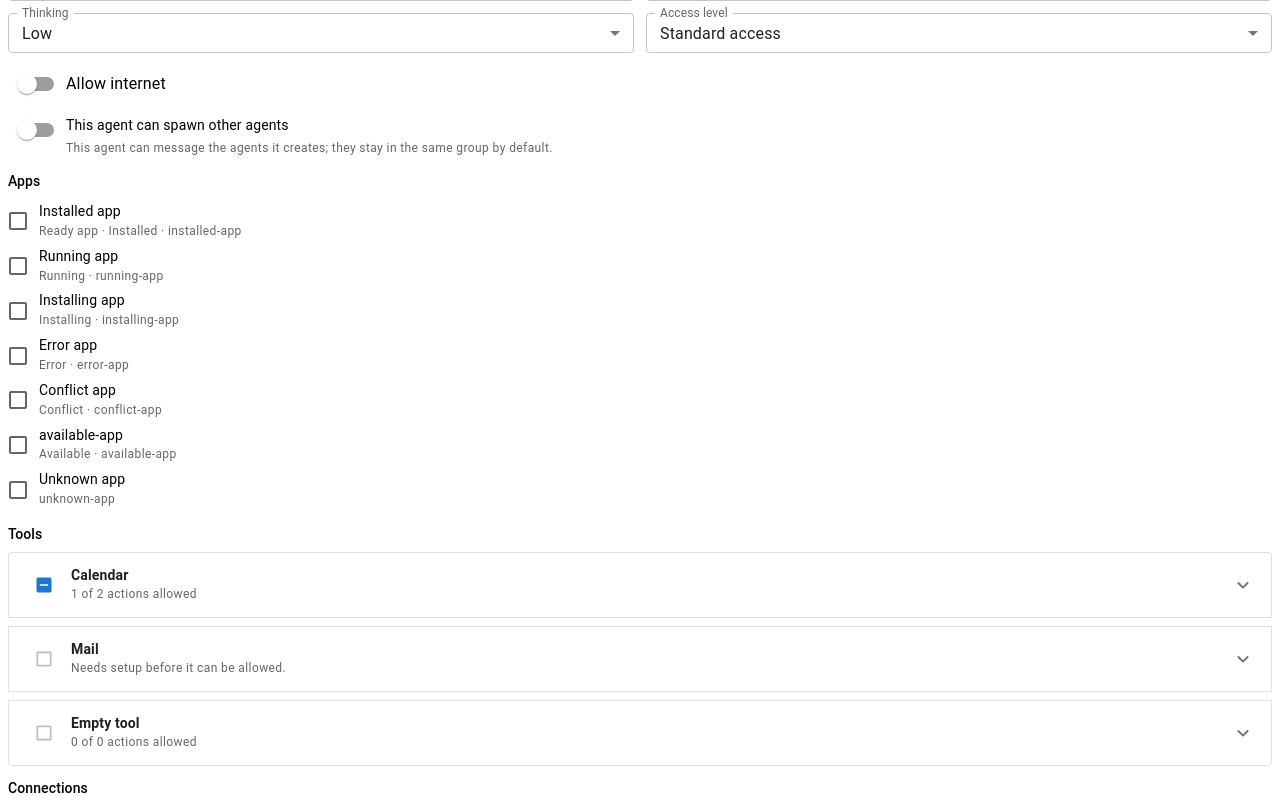
AgentAccessControls › grants all, partial, and individual tool actions including unconfigured tools
Click the checkbox named "Calendar" at (44, 585), box [34, 575, 54, 595]
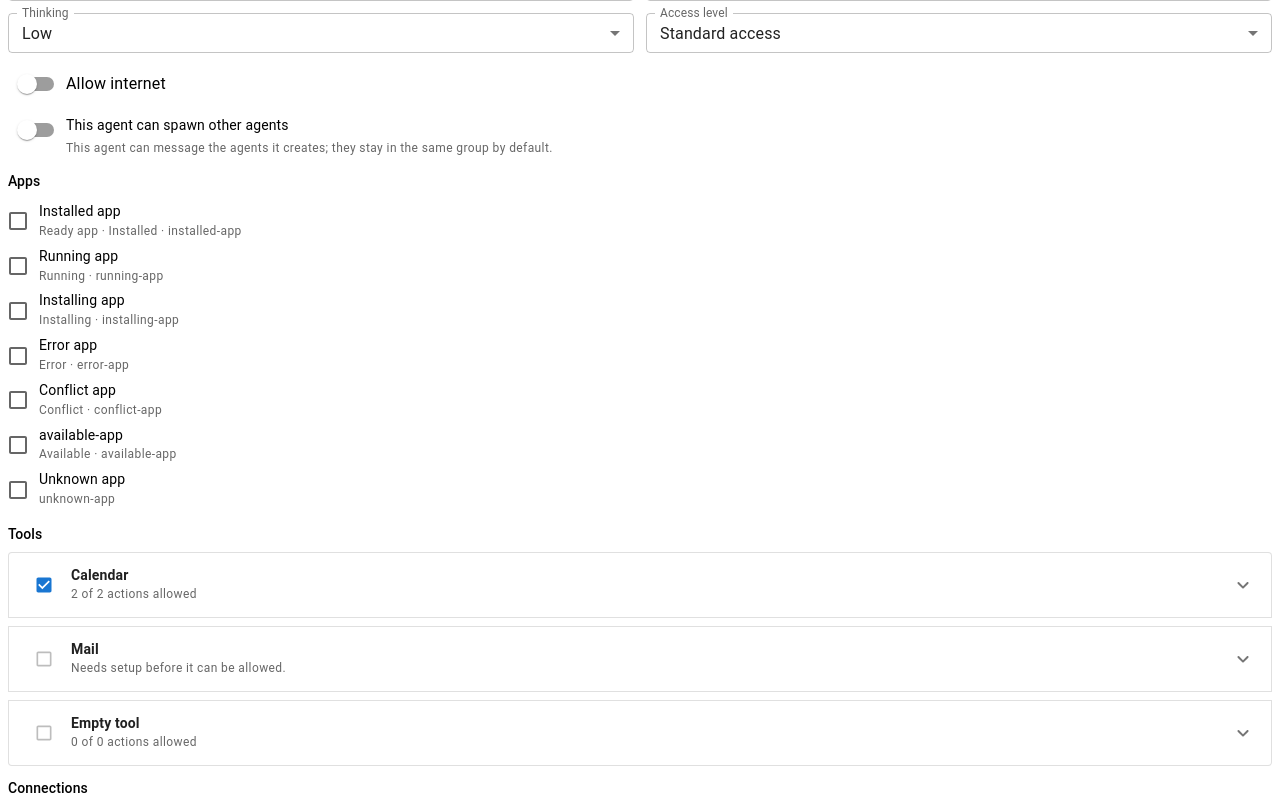
Click the checkbox named "Calendar" at (44, 585), box [34, 575, 54, 595]
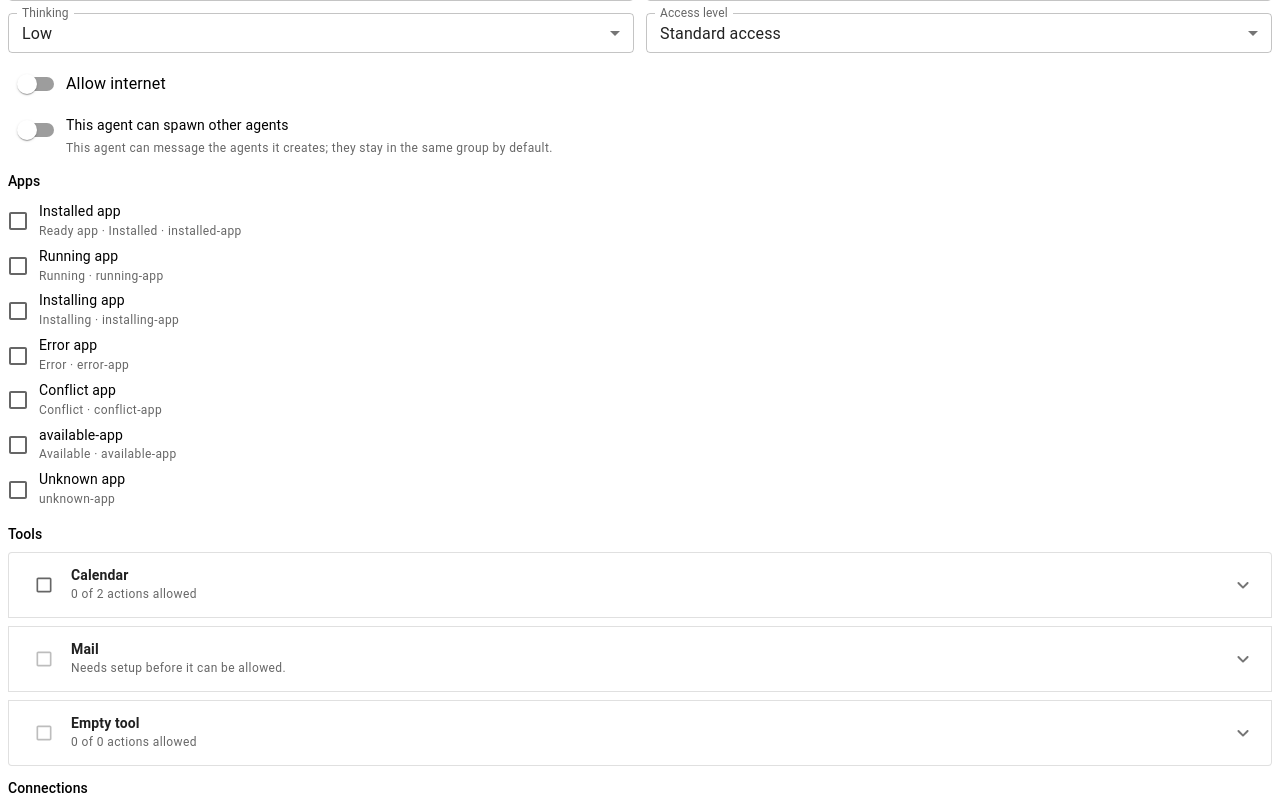
Click the button "Calendar 0 of 2 actions allowed" at (100, 575), box [9, 553, 1271, 617]
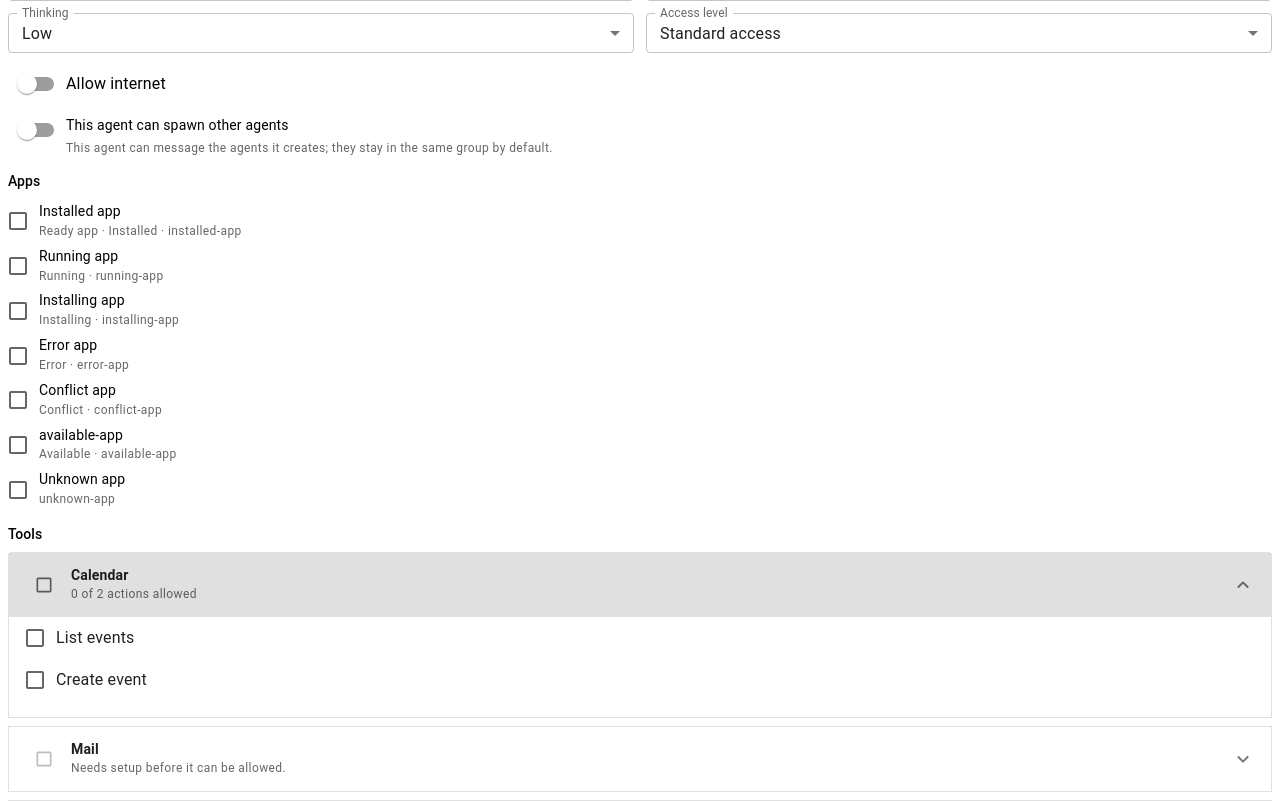
Click the 2nd checkbox labelled "List events" at (79, 638), box [23, 626, 134, 650]
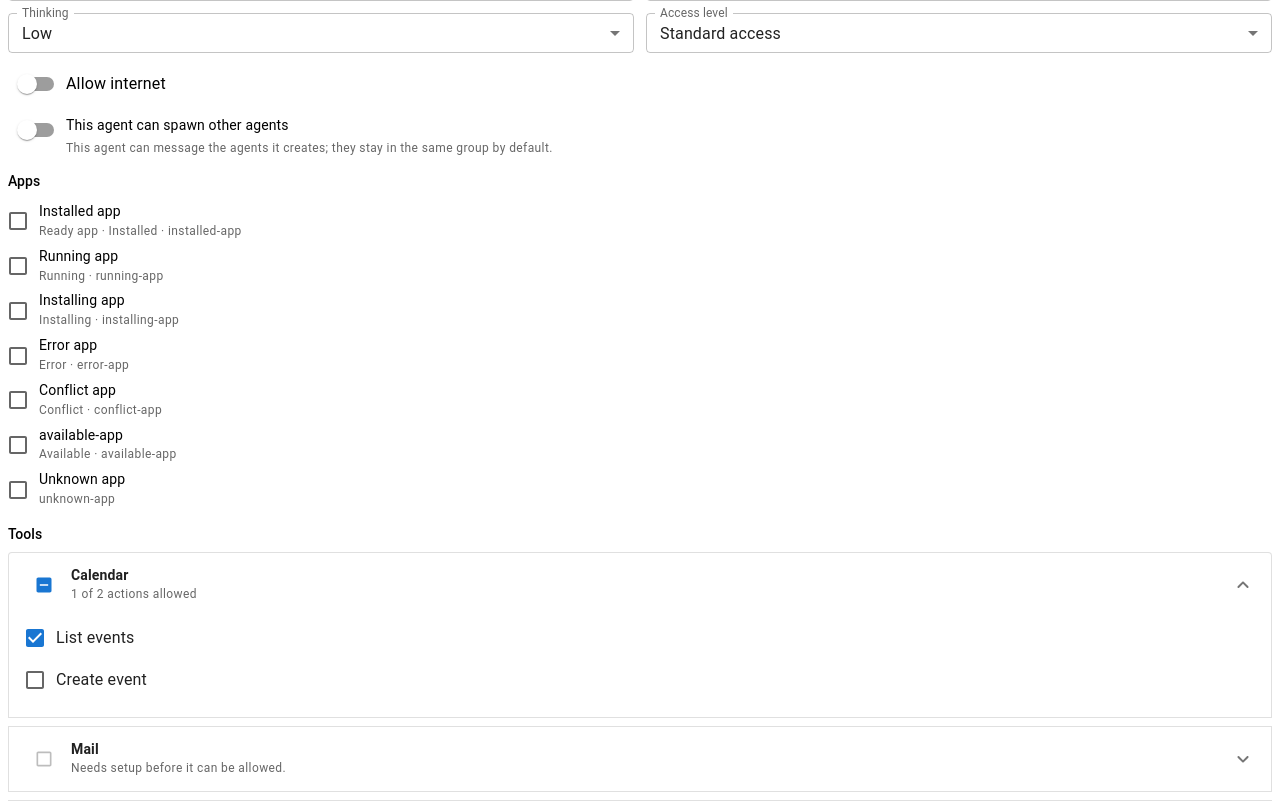
Click the 2nd checkbox labelled "Create event" at (85, 680), box [23, 668, 147, 692]
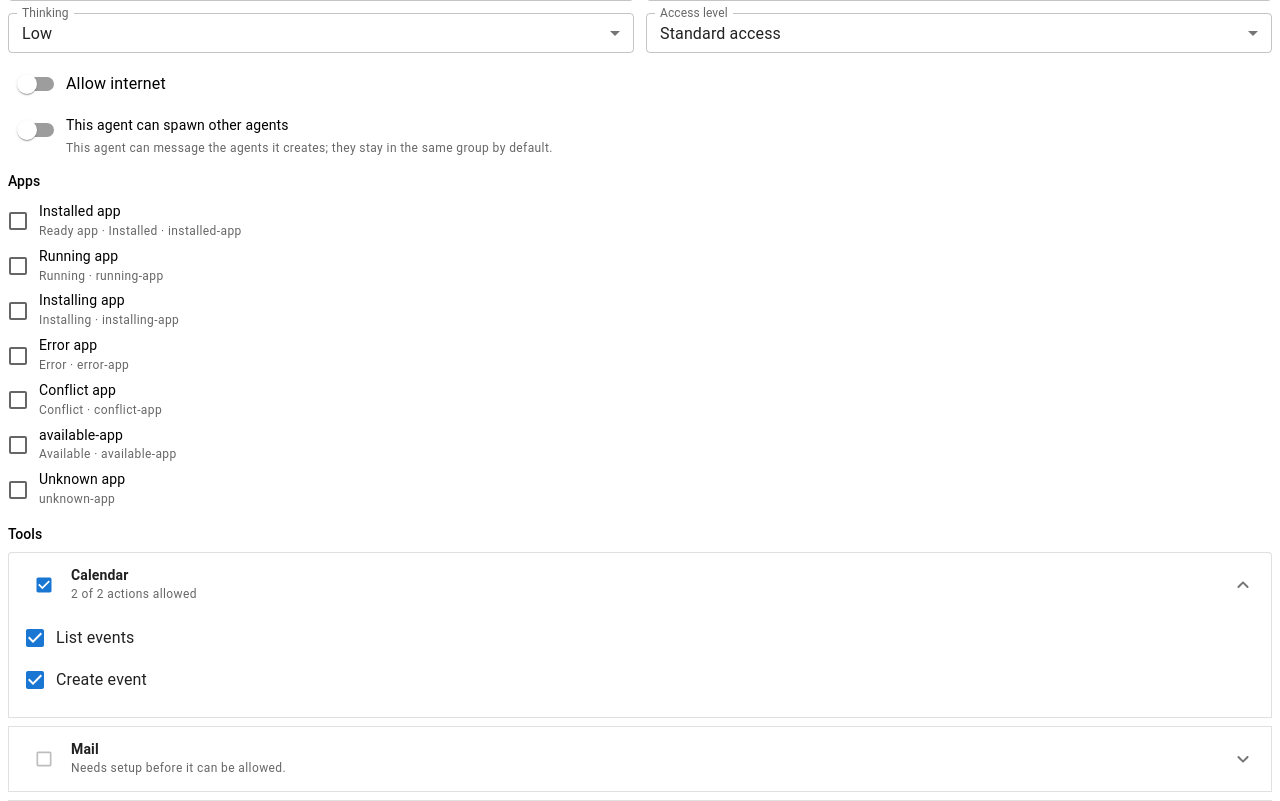
Expected: the checkbox named "Mail" is disabled, [34, 749, 54, 769]
Click the button "Mail" at (179, 768), box [9, 727, 1271, 791]
(page scrolled)
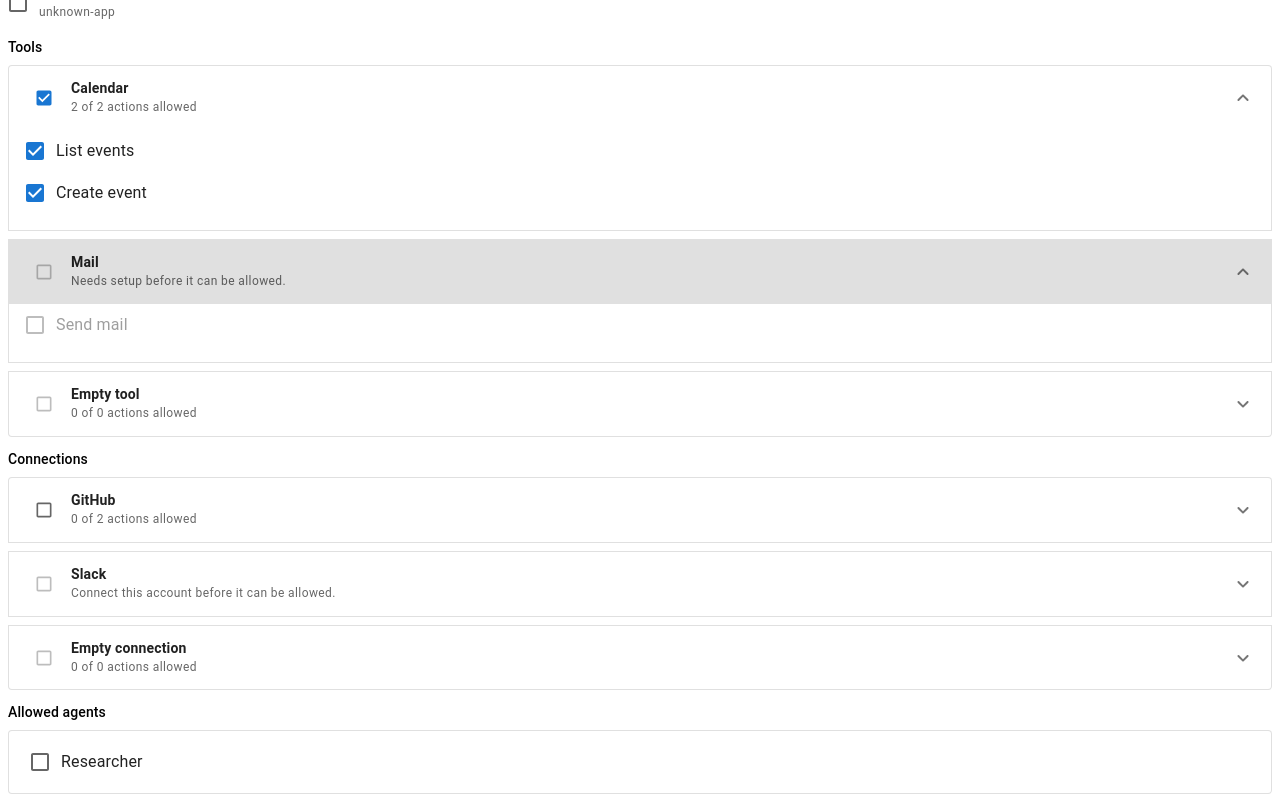
Expected: the checkbox named "Empty tool" is disabled, [34, 394, 54, 414]
Expected: the 3rd checkbox labelled "Send mail" is disabled, [23, 313, 128, 337]
